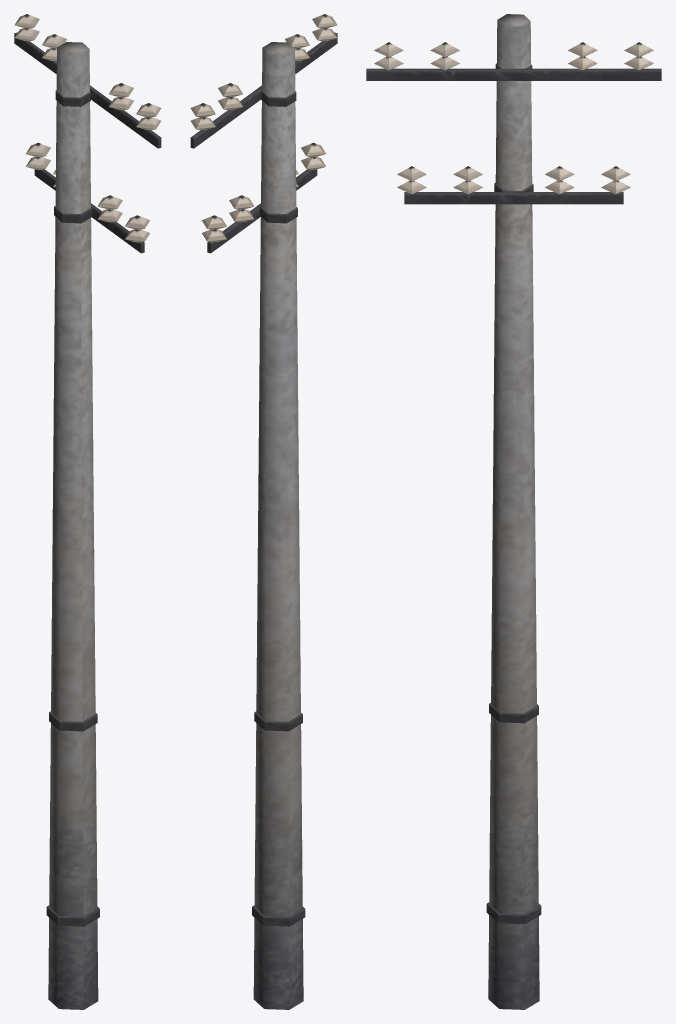
The model's file is jiedao_BJ_007.fbx.
3 views of the same model, side by side, from view 1: azimuth 30°, elevation 25°; view 2: azimuth 150°, elevation 25°; view 3: azimuth 270°, elevation 25° (orthographic). The views are drawn at different scales.
Visible parts, largest first — view 1: BJ007; view 2: BJ007; view 3: BJ007.
Part boxes in pixels (box(x1,y1,x2,y2)): BJ007: box(14, 14, 161, 1009); BJ007: box(190, 14, 337, 1009); BJ007: box(366, 14, 661, 1009).
Bounding box in the file's own units: 26.65 × 137 × 501.
